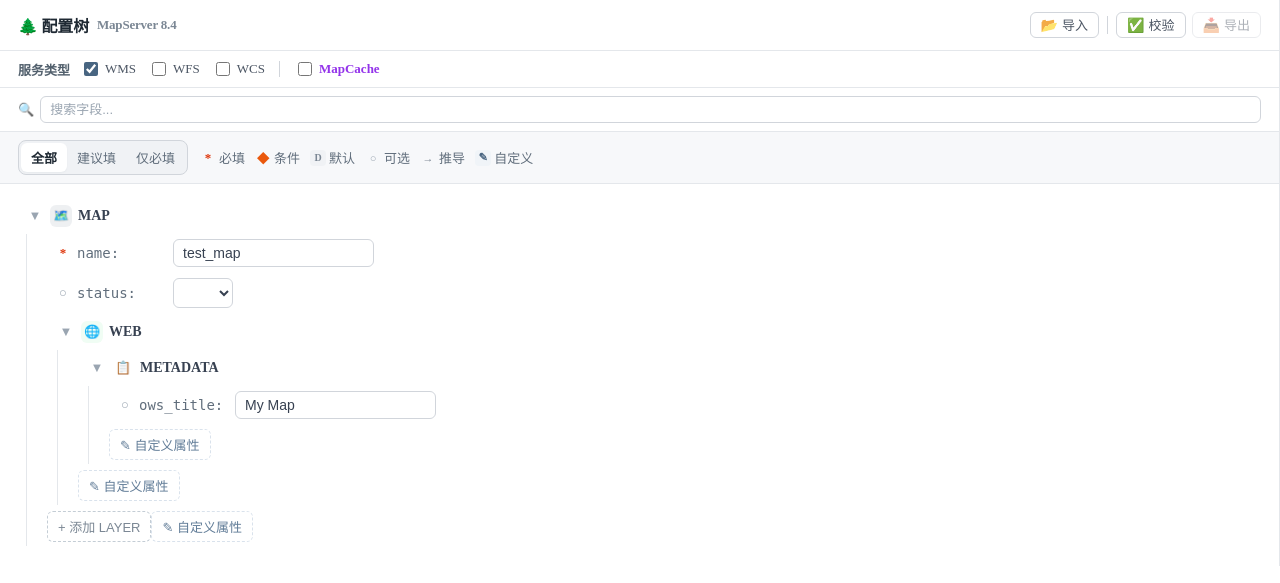
Scenario: ConfigTreePanel — Search › shows matching fields when typing search query
Type "name" into the field with class "search-input" at [651, 110], box [40,96,1261,123]
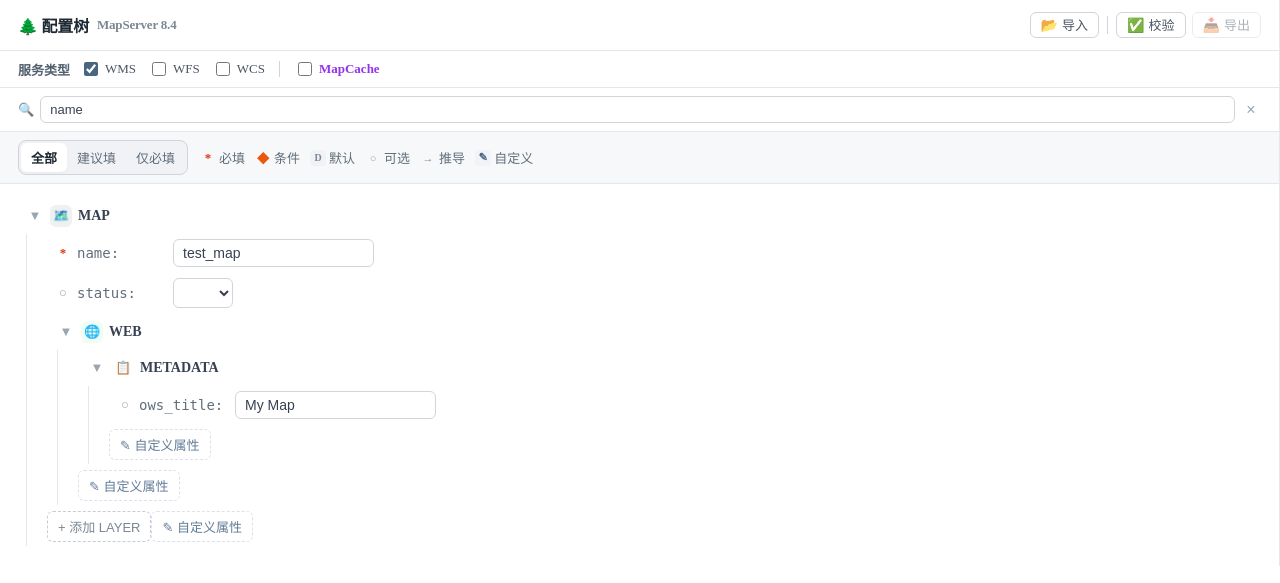
Focus the field with class "search-input" at [638, 110], box [40,96,1235,123]
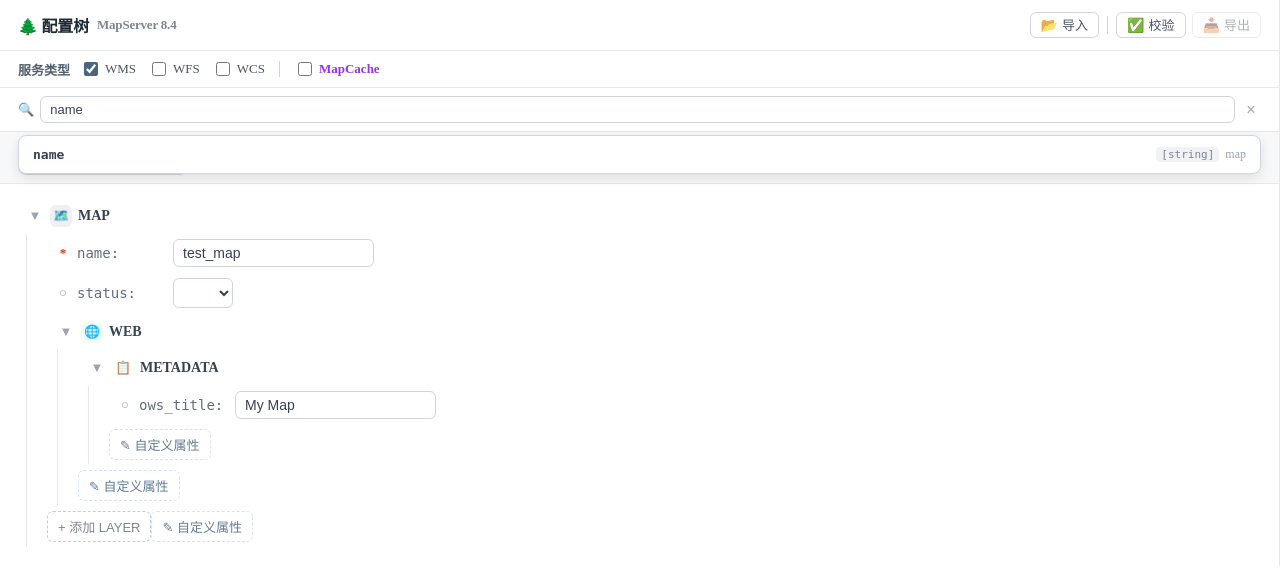
Expected: the element with class "search-dropdown" is shown, [18,135,1261,174]
Expected: the element with class "search-dropdown" shows "name", [33,147,64,162]
Expected: the element with class "search-dropdown" shows "[string]", [1161,148,1214,161]
